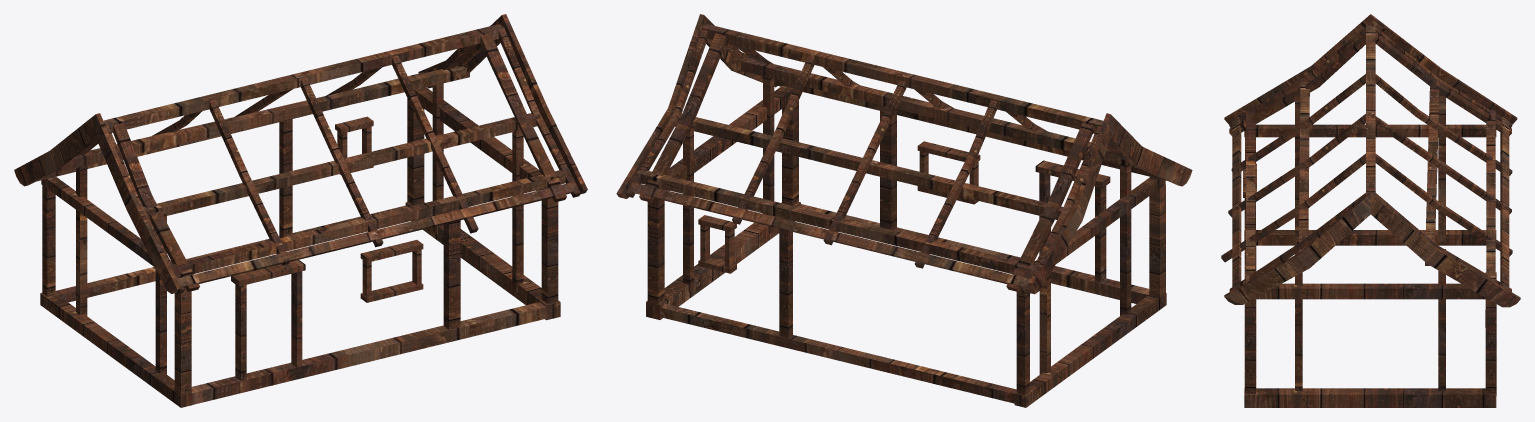
File: house_frame.fbx
3 renders of one model, left to right at view 1: azimuth 30°, elevation 25°; view 2: azimuth 150°, elevation 25°; view 3: azimuth 270°, elevation 25°, orthographic. The views are drawn at different scales.
Visible parts, largest first — view 1: polySurface216; view 2: polySurface216; view 3: polySurface216.
Boxes of the visible parts, bbox=[...] form: polySurface216: bbox=[14, 14, 587, 407]; polySurface216: bbox=[616, 14, 1192, 407]; polySurface216: bbox=[1221, 14, 1520, 407].
Size of the model in its own units: 994 by 560 by 685.
